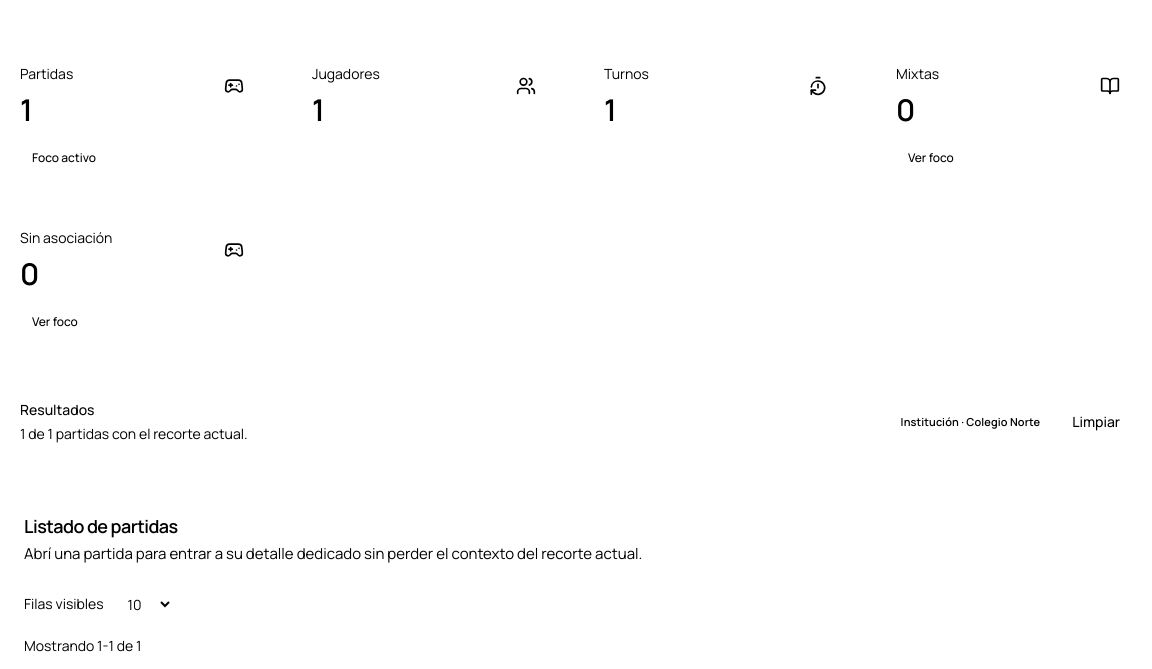
Test: GamesTable › activates focus from summary cards and shows the active result chip
(page scrolled)
Click the button with aria-label "Ver foco Sin asociación" at (55, 322), box [20,308,90,336]
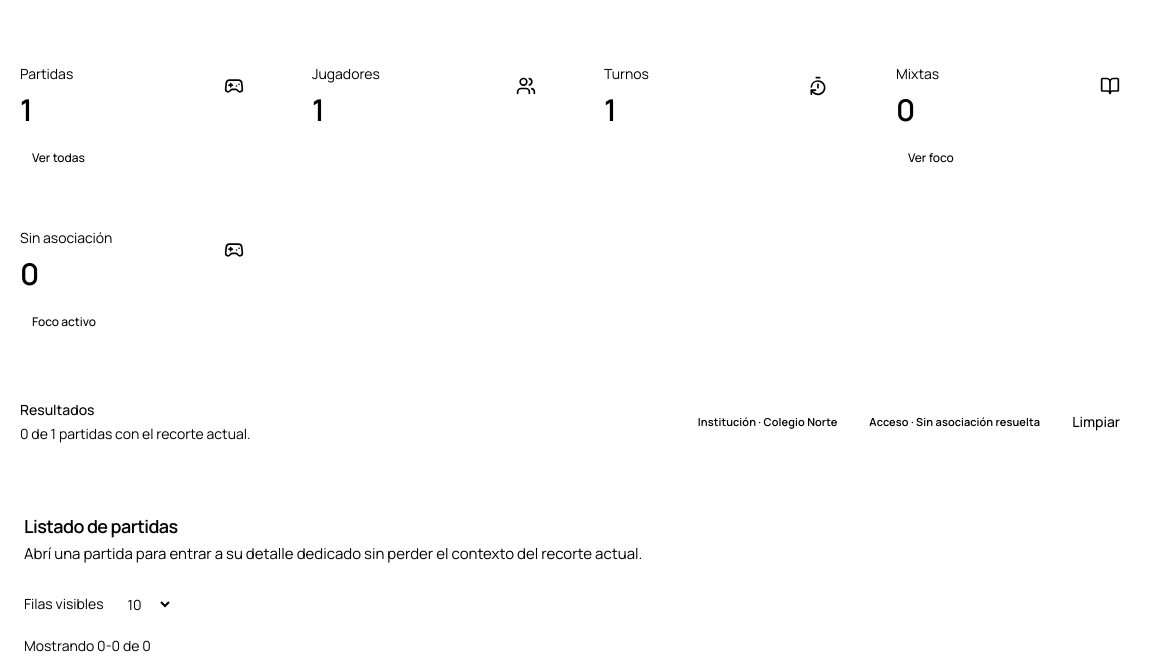
Expected: the text "Acceso · Sin asociación resuelta" is shown, [857,410,1052,434]
Expected: the button with aria-label "Foco activo para Sin asociación" is shown, [20,308,108,336]
